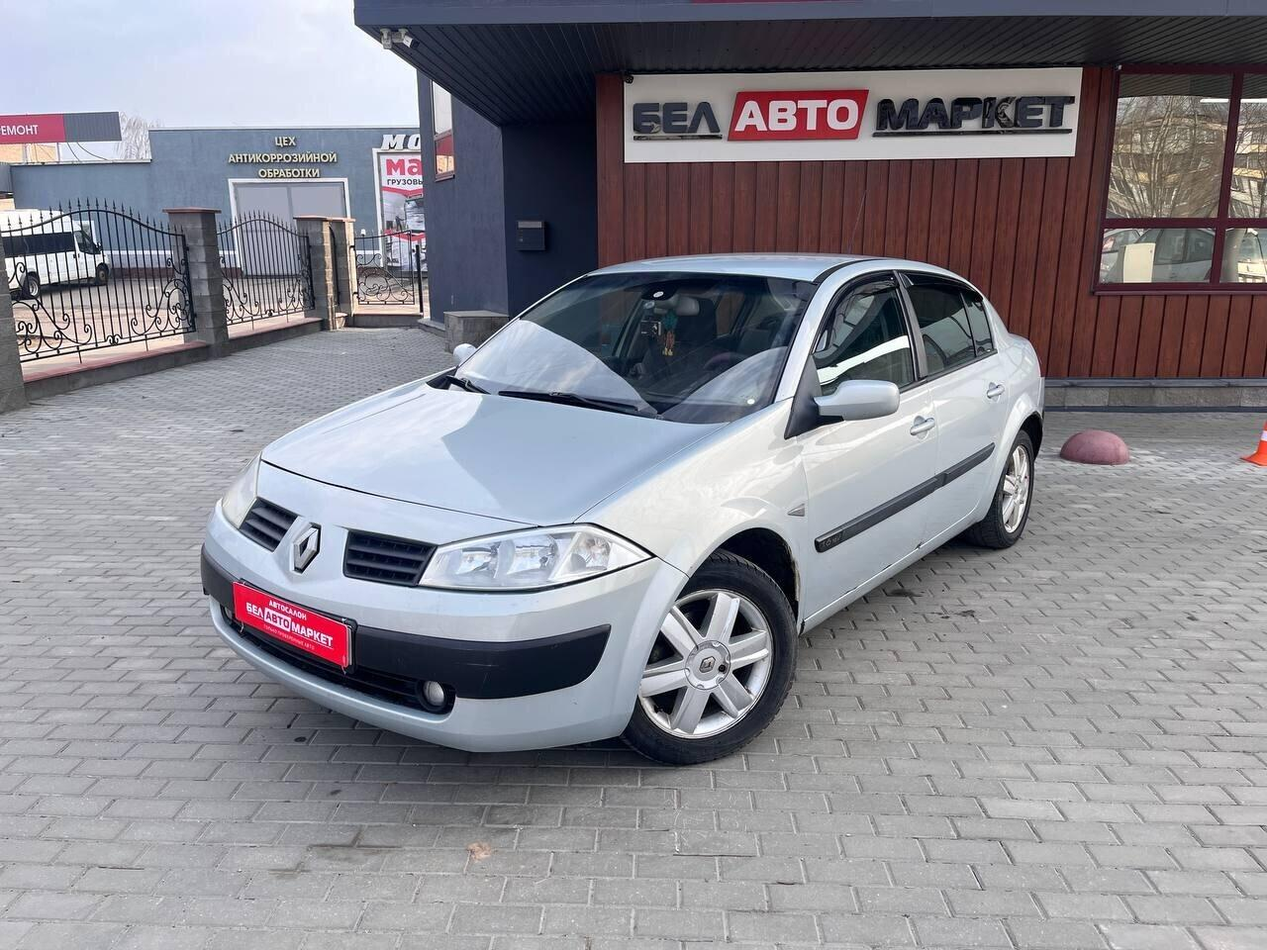Megane_2002-2006: (187, 254, 1052, 761)
